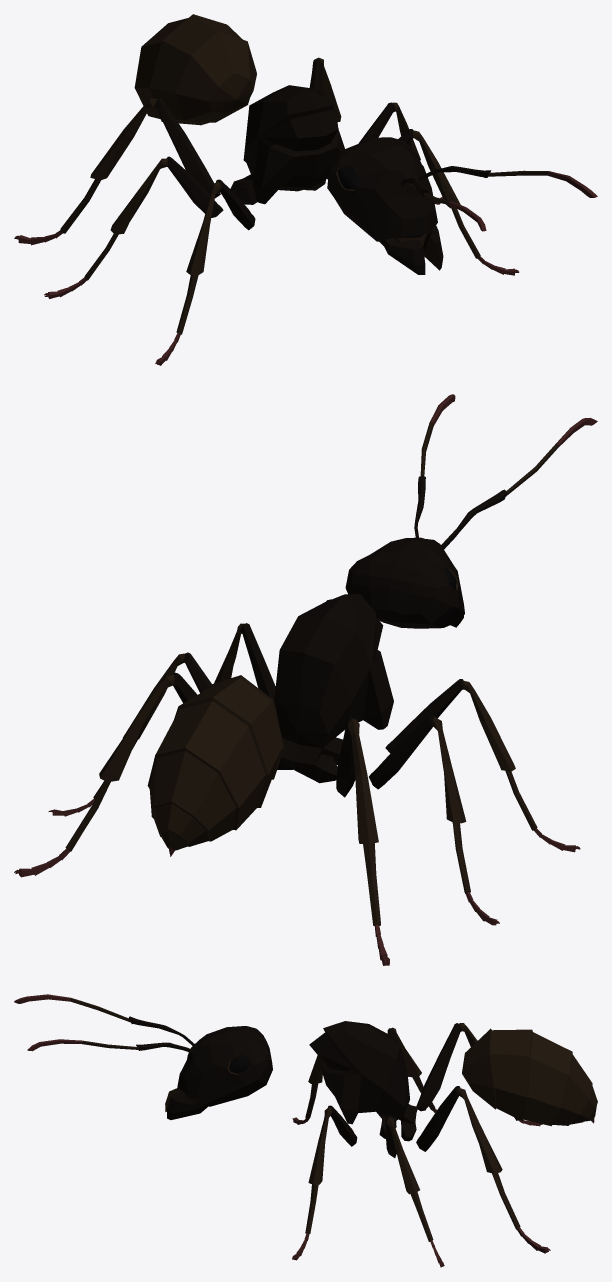
File: ant.fbx
The picture shows the model from 3 angles, top to bottom: view 1: azimuth 30°, elevation 25°; view 2: azimuth 150°, elevation 25°; view 3: azimuth 270°, elevation 25°; orthographic projection. The views are drawn at different scales.
Visible parts, largest first — view 1: Head.015, Body.023, Body.024, Left_Leg_02.189, Left_Leg_02.188, Left_Leg_02.186, Left_Leg_02.192, Left_Leg_02.183, Left_Leg_02.191, Left_Leg_02.185, Left_Leg_02.176; view 2: Body.023, Body.024, Head.015, Left_Leg_02.189, Left_Leg_02.180, Left_Leg_02.192, Left_Leg_02.186, Left_Leg_02.191, Left_Leg_02.185, Left_Leg_02.182, Left_Leg_02.188; view 3: Body.023, Head.015, Body.024, Left_Leg_02.180, Left_Leg_02.188, Left_Leg_02.177, Left_Leg_02.183, Left_Leg_02.179, Left_Leg_02.192, Left_Leg_02.186, Left_Leg_02.182.
Part boxes in pixels (left/top/right/bottom): Head.015: left=327, top=137, right=597, bottom=274; Body.023: left=134, top=14, right=256, bottom=125; Body.024: left=230, top=85, right=344, bottom=204; Left_Leg_02.189: left=60, top=98, right=157, bottom=233; Left_Leg_02.188: left=153, top=97, right=220, bottom=198; Left_Leg_02.186: left=176, top=181, right=220, bottom=334; Left_Leg_02.192: left=84, top=158, right=168, bottom=280; Left_Leg_02.183: left=412, top=130, right=480, bottom=258; Left_Leg_02.191: left=166, top=156, right=223, bottom=217; Left_Leg_02.185: left=216, top=179, right=255, bottom=230; Left_Leg_02.176: left=358, top=102, right=395, bottom=143; Body.023: left=147, top=675, right=284, bottom=856; Body.024: left=274, top=594, right=393, bottom=783; Head.015: left=345, top=394, right=597, bottom=628; Left_Leg_02.189: left=348, top=718, right=380, bottom=925; Left_Leg_02.180: left=65, top=674, right=174, bottom=851; Left_Leg_02.192: left=431, top=717, right=470, bottom=893; Left_Leg_02.186: left=462, top=680, right=537, bottom=830; Left_Leg_02.191: left=369, top=715, right=436, bottom=789; Left_Leg_02.185: left=385, top=679, right=463, bottom=753; Left_Leg_02.182: left=240, top=623, right=275, bottom=701; Left_Leg_02.188: left=336, top=716, right=356, bottom=797; Body.023: left=462, top=1028, right=597, bottom=1126; Head.015: left=14, top=994, right=272, bottom=1119; Body.024: left=309, top=1021, right=418, bottom=1141; Left_Leg_02.180: left=457, top=1087, right=520, bottom=1229; Left_Leg_02.188: left=416, top=1023, right=462, bottom=1111; Left_Leg_02.177: left=386, top=1117, right=433, bottom=1241; Left_Leg_02.183: left=305, top=1107, right=332, bottom=1233; Left_Leg_02.179: left=416, top=1086, right=460, bottom=1151; Left_Leg_02.192: left=392, top=1027, right=435, bottom=1110; Left_Leg_02.186: left=305, top=1055, right=322, bottom=1119; Left_Leg_02.182: left=328, top=1105, right=357, bottom=1146.
Bounding box in the file's own units: 874 × 478 × 1338.
